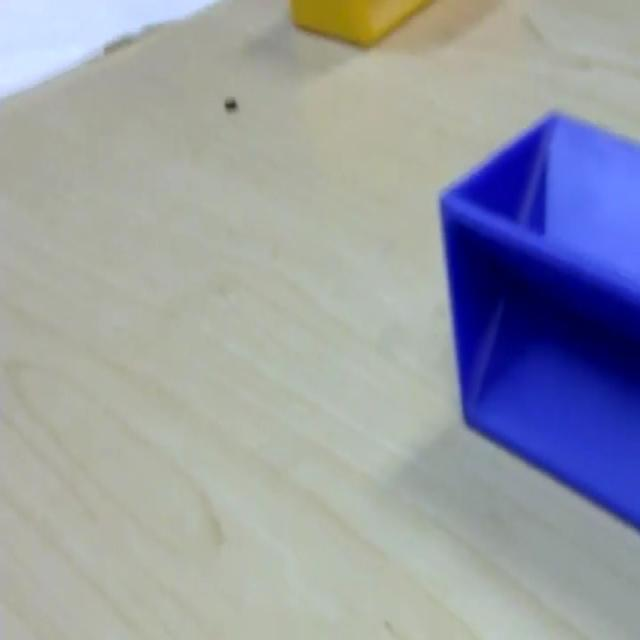blue_block: (436, 107, 638, 530)
yellow_block: (288, 0, 433, 48)
